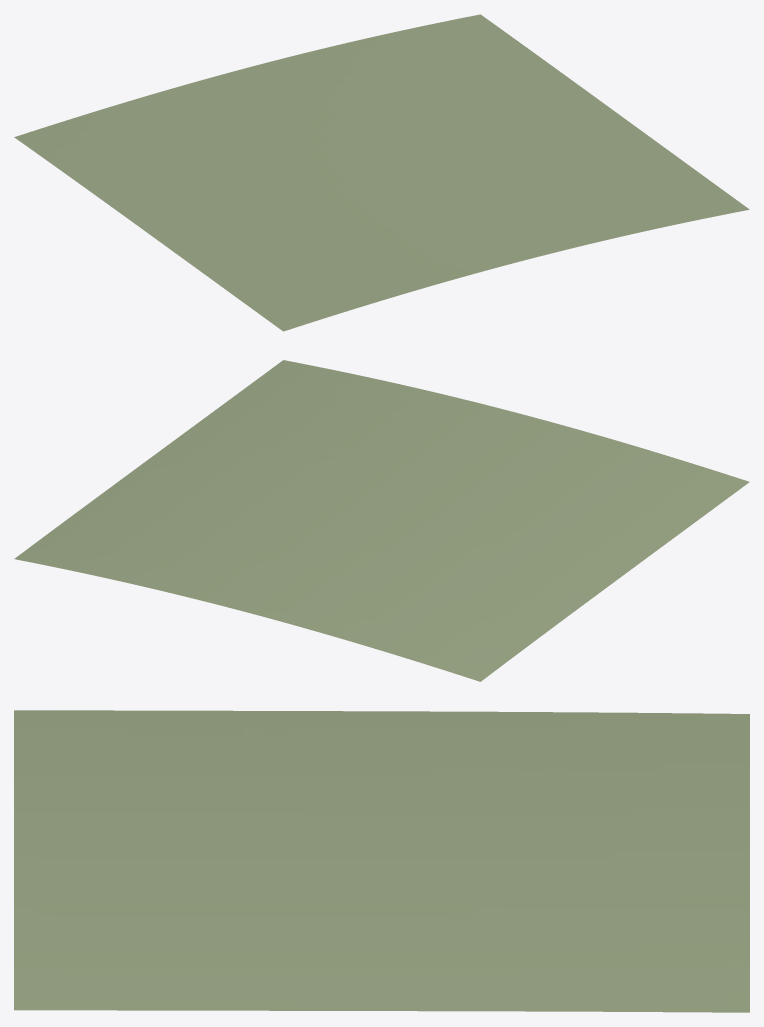
Rendered from valley-6-10.glb.
3 renders of one model, top to bottom at view 1: azimuth 30°, elevation 25°; view 2: azimuth 150°, elevation 25°; view 3: azimuth 270°, elevation 25°, orthographic. The views are drawn at different scales.
Parts seen in each view (by area): view 1: valley-6-10; view 2: valley-6-10; view 3: valley-6-10.
Boxes of the visible parts, <box> form: valley-6-10: <box>14,14,749,331</box>; valley-6-10: <box>14,360,749,681</box>; valley-6-10: <box>14,710,749,1012</box>.
Bounding box in the file's own units: 256 × 8.19 × 256.
